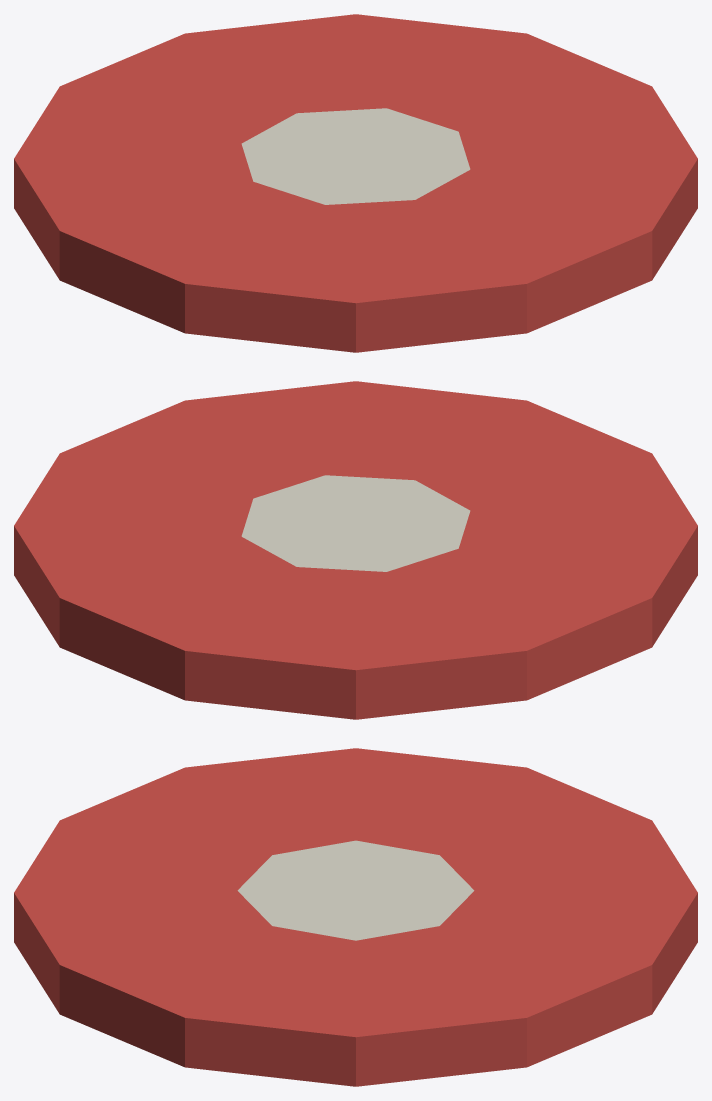
File: disco_1967.glb
3 views of the same model, one above another, from view 1: azimuth 30°, elevation 25°; view 2: azimuth 150°, elevation 25°; view 3: azimuth 270°, elevation 25° (orthographic).
Parts seen in each view (by area): view 1: Malha_0; view 2: Malha_0; view 3: Malha_0.
Boxes of the visible parts, x1,y1,x2,y2 form: Malha_0: [14, 14, 697, 352]; Malha_0: [14, 381, 697, 719]; Malha_0: [14, 748, 697, 1086].
Size of the model in its own units: 0.15 by 0.0125 by 0.15.
